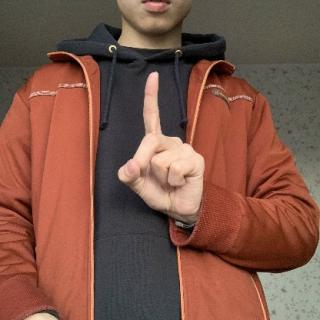BAA: (114, 66, 204, 222)
